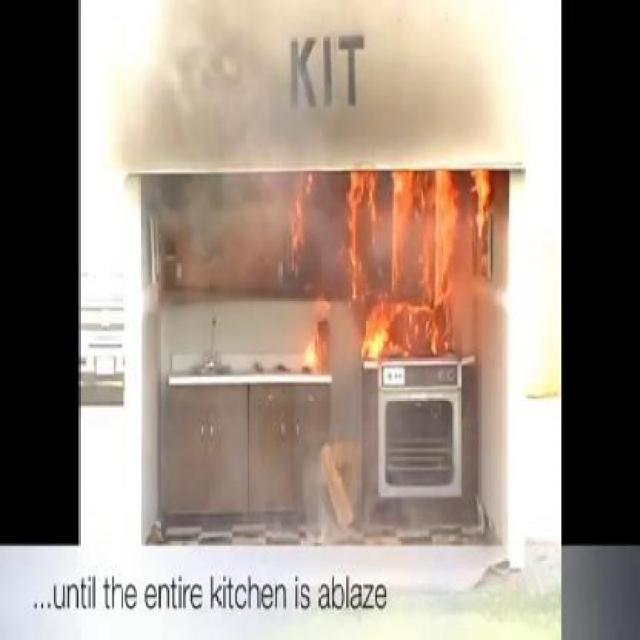fire: (346, 171, 464, 357), (286, 172, 319, 282), (292, 316, 332, 376), (471, 166, 498, 252)
